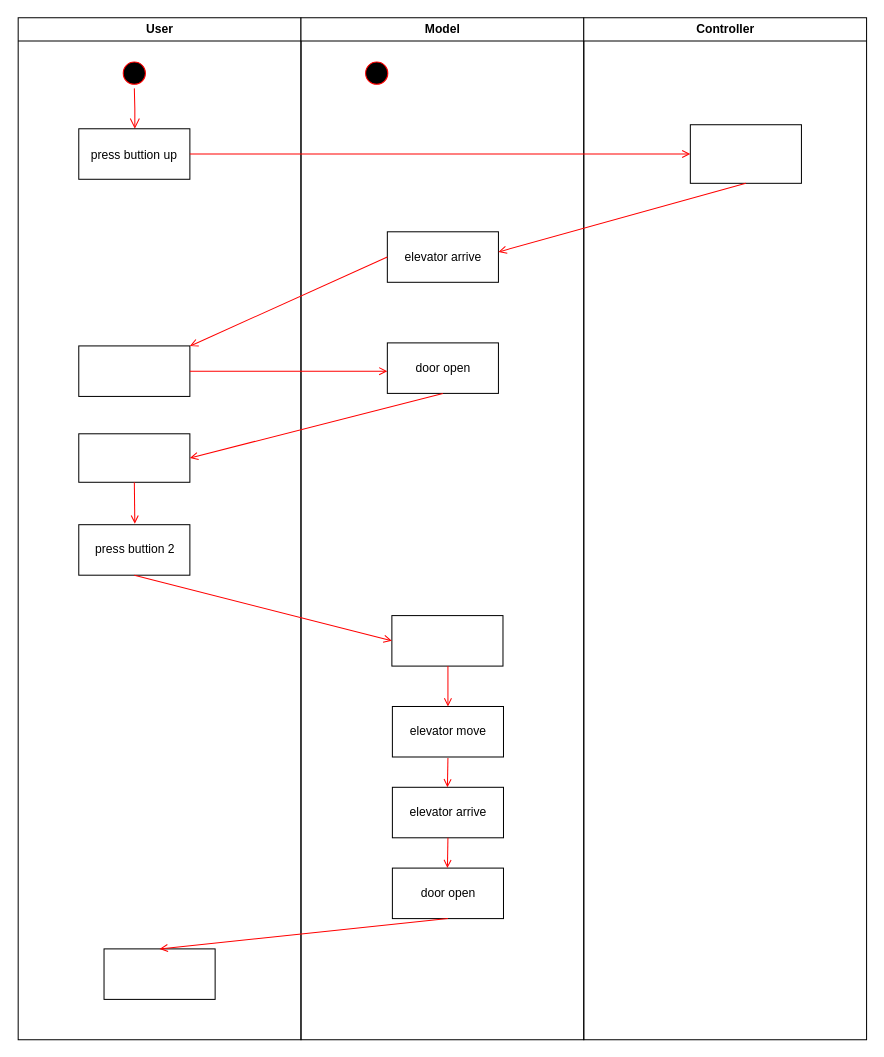
The diagram is 884 pixels wide and 1057 high, and some of its shapes have lost their labels. The centre of each missing label's shape, as x and y in pixels:
choose which elevator to com: point 745,153
door close: point 447,640
enter the elevator: point 134,457
user leave the elevator: point 159,973
wait door open: point 134,370
